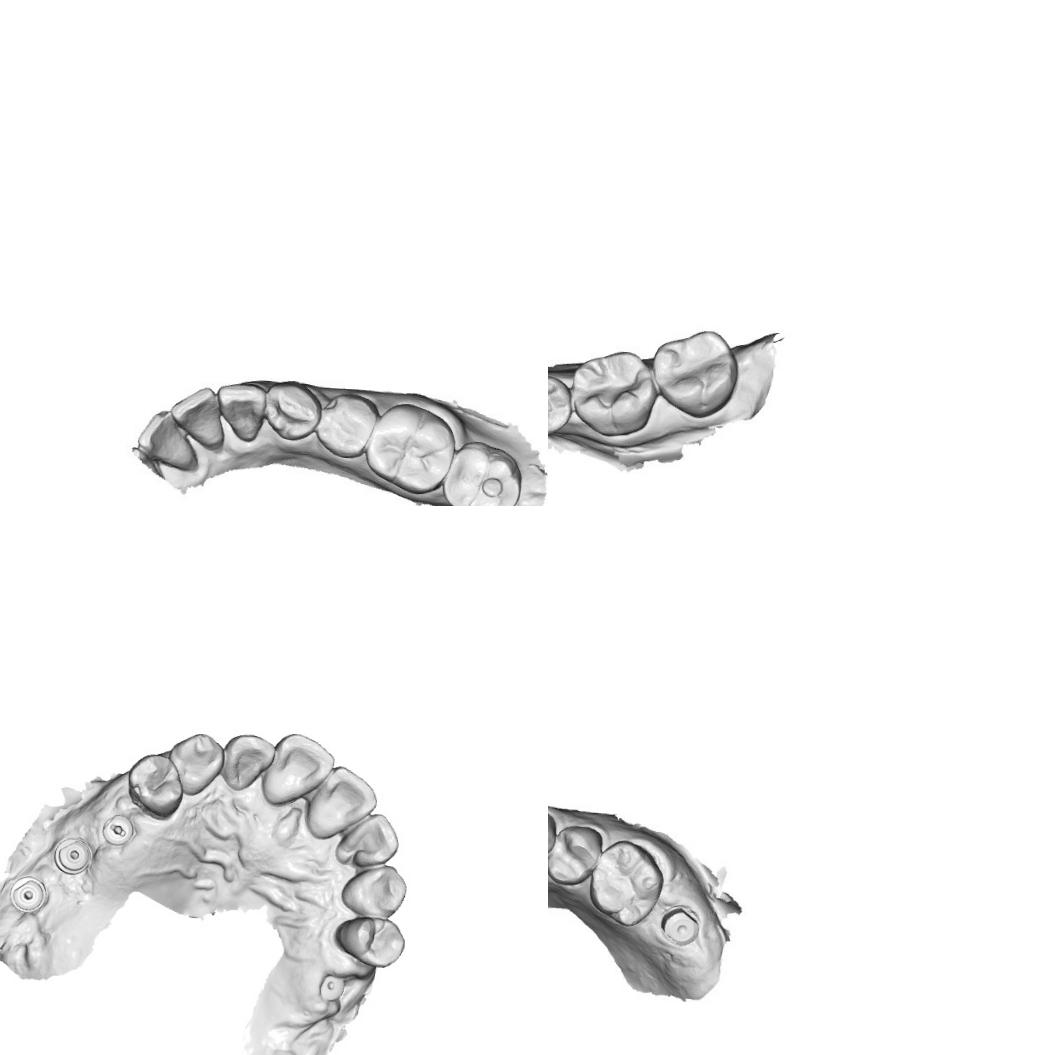canine: (166, 730, 226, 798), (338, 861, 408, 918), (216, 379, 269, 443)
implant: (660, 902, 705, 947), (5, 874, 49, 916), (52, 835, 94, 877), (316, 972, 346, 1002)
implant_minus: (98, 812, 136, 847)
incisor: (302, 762, 380, 843), (259, 729, 336, 809), (334, 809, 402, 869), (170, 385, 229, 454), (138, 410, 202, 470), (216, 731, 276, 792)
molar: (365, 402, 451, 494), (569, 348, 656, 438), (585, 836, 667, 928), (650, 324, 736, 409), (446, 441, 520, 506)
premolar: (331, 913, 408, 969), (123, 751, 186, 819), (321, 390, 374, 460), (548, 821, 604, 887), (266, 377, 320, 441), (548, 372, 573, 436)
